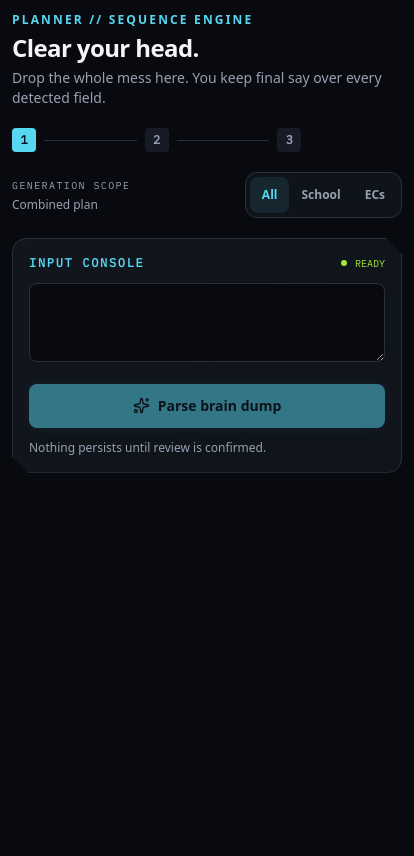
it: Planner › parses a brain dump into an editable review before planning
Step 1. Type "Physics homework due tomorrow" into the text box labelled "Input console" → (207, 322), box x1=29 y1=283 x2=385 y2=362
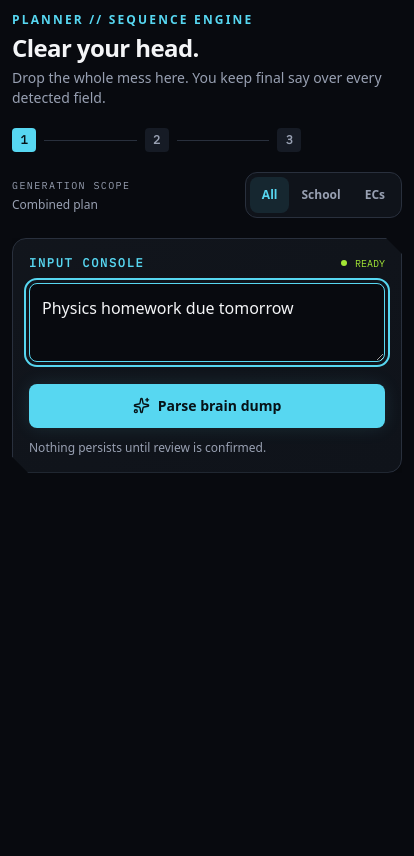
Step 2. Click the button "Parse brain dump" → (207, 406), box x1=29 y1=384 x2=385 y2=428
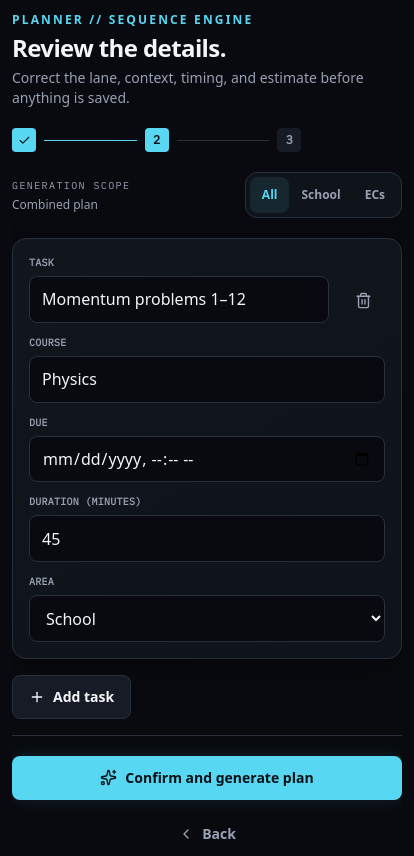
Expected: the field showing "Momentum problems 1–12" is shown, x1=29 y1=276 x2=329 y2=323
Expected: the dropdown named "area for momentum" shows "School", x1=29 y1=595 x2=385 y2=642
Expected: the button "Confirm and generate plan" is enabled, x1=12 y1=756 x2=402 y2=800
